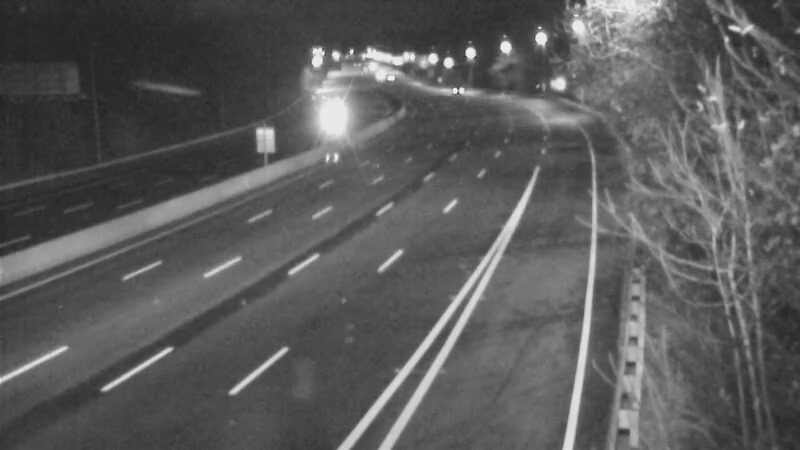vehicle: (436, 65, 486, 115), (302, 97, 352, 147)
